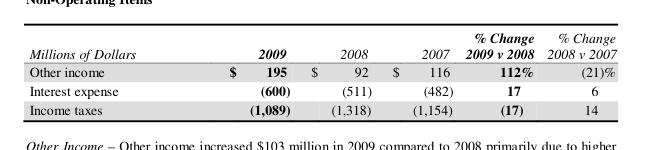table: (28, 28, 615, 118)
table column: (28, 28, 181, 118), (181, 28, 299, 118), (299, 28, 381, 118), (458, 28, 540, 118), (381, 28, 458, 118), (540, 28, 615, 118)
table column header: (28, 28, 615, 62)
table row: (28, 28, 615, 62), (28, 80, 615, 99), (28, 99, 615, 118), (28, 62, 615, 80)
